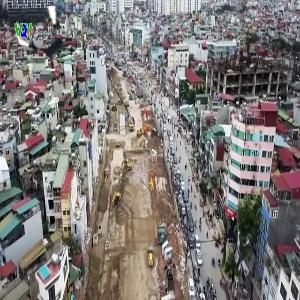drone: (17, 6, 84, 73)
